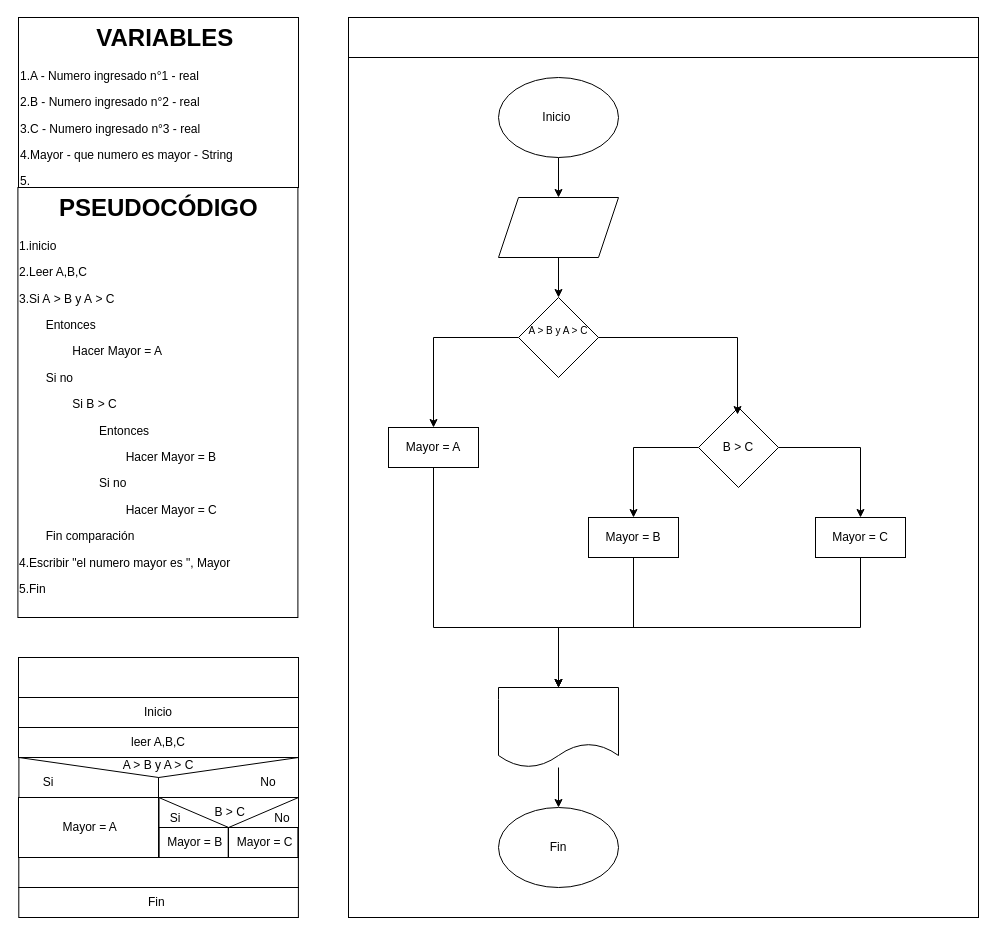
Some shapes in this 996 by 935 pixel diagram are drawn without their labels. Each missing label, with the box of its shape:
A,B,C: (498, 196, 618, 258)
DIAGRAMA DE FLUJO: (348, 16, 978, 58)
DIAGRAMA N/S .: (18, 656, 298, 698)
Escribir Mayor: (18, 856, 298, 888)
Mayor: (498, 686, 618, 768)
